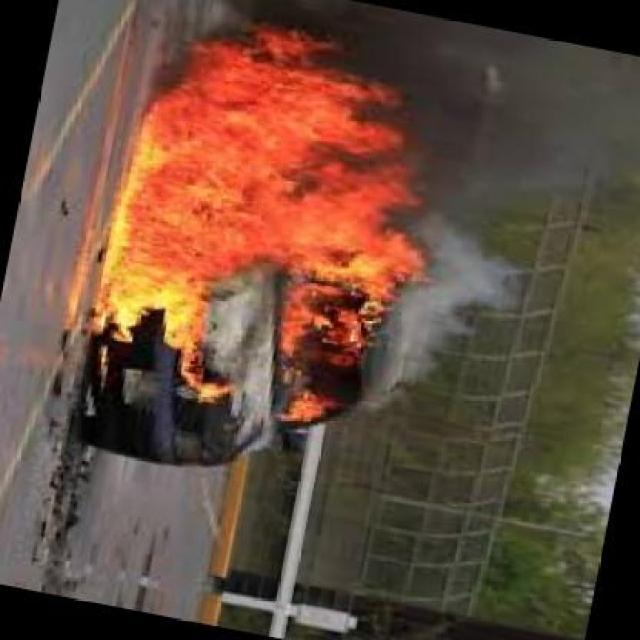Fire: (99, 37, 405, 414)
Smoke: (411, 28, 640, 217), (412, 228, 532, 397), (254, 3, 422, 83)
